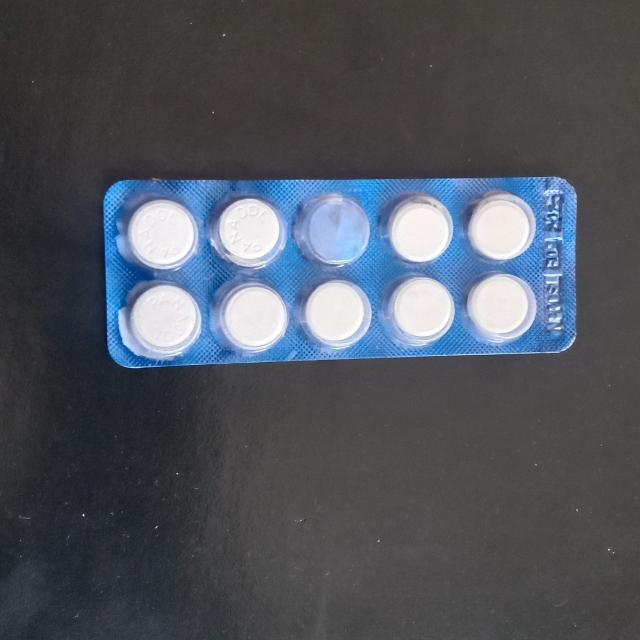defect: (290, 190, 375, 270)
